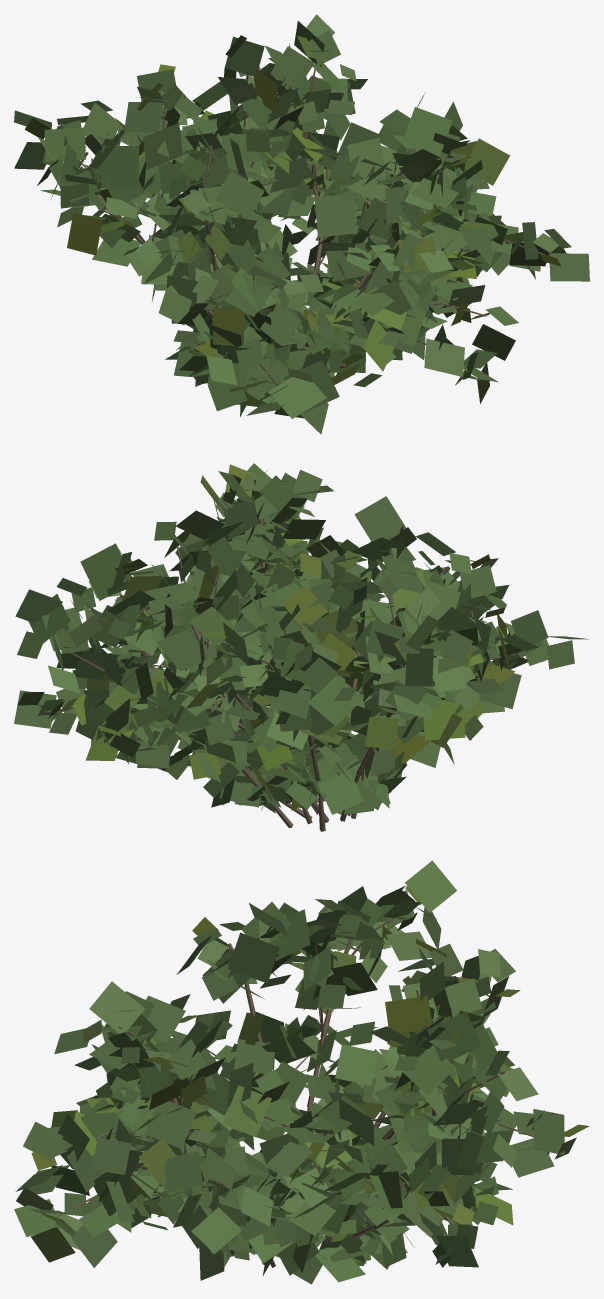
File: vinemound_b.glb
3 views of the same model, one above another, from view 1: azimuth 30°, elevation 25°; view 2: azimuth 150°, elevation 25°; view 3: azimuth 270°, elevation 25° (orthographic). The views are drawn at different scales.
Visible parts, largest first — view 1: vinemound_b; view 2: vinemound_b; view 3: vinemound_b.
Boxes of the visible parts, x1,y1,x2,y2 form: vinemound_b: (14,14,589,434); vinemound_b: (14,463,588,831); vinemound_b: (14,860,589,1284).
Bounding box in the file's own units: 4 × 2.78 × 4.18.
